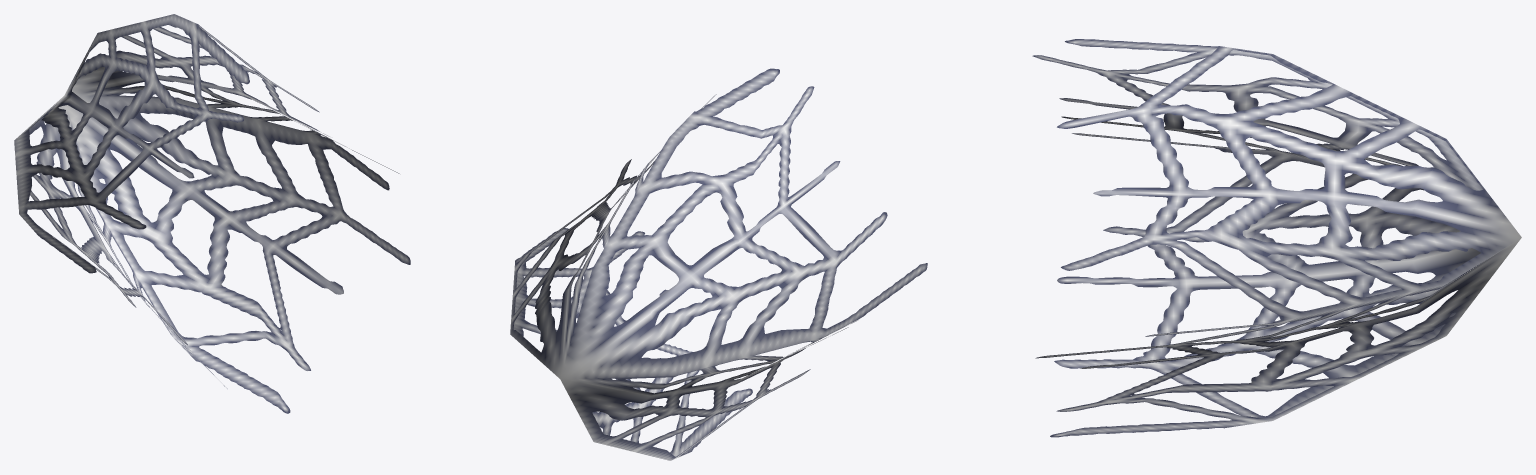
The model's file is web_projectile.fbx.
3 views of the same model, side by side, from view 1: azimuth 30°, elevation 25°; view 2: azimuth 150°, elevation 25°; view 3: azimuth 270°, elevation 25° (orthographic). The views are drawn at different scales.
Visible parts, largest first — view 1: web_projectile; view 2: web_projectile; view 3: web_projectile.
Part boxes in pixels (bbox=[...]): web_projectile: bbox=[14, 14, 410, 413]; web_projectile: bbox=[510, 68, 927, 460]; web_projectile: bbox=[1032, 39, 1521, 437].
Size of the model in its own units: 50 by 50 by 52.31.
